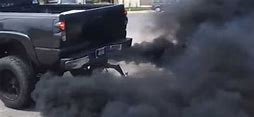smoke: (37, 70, 254, 117), (114, 1, 254, 67)
